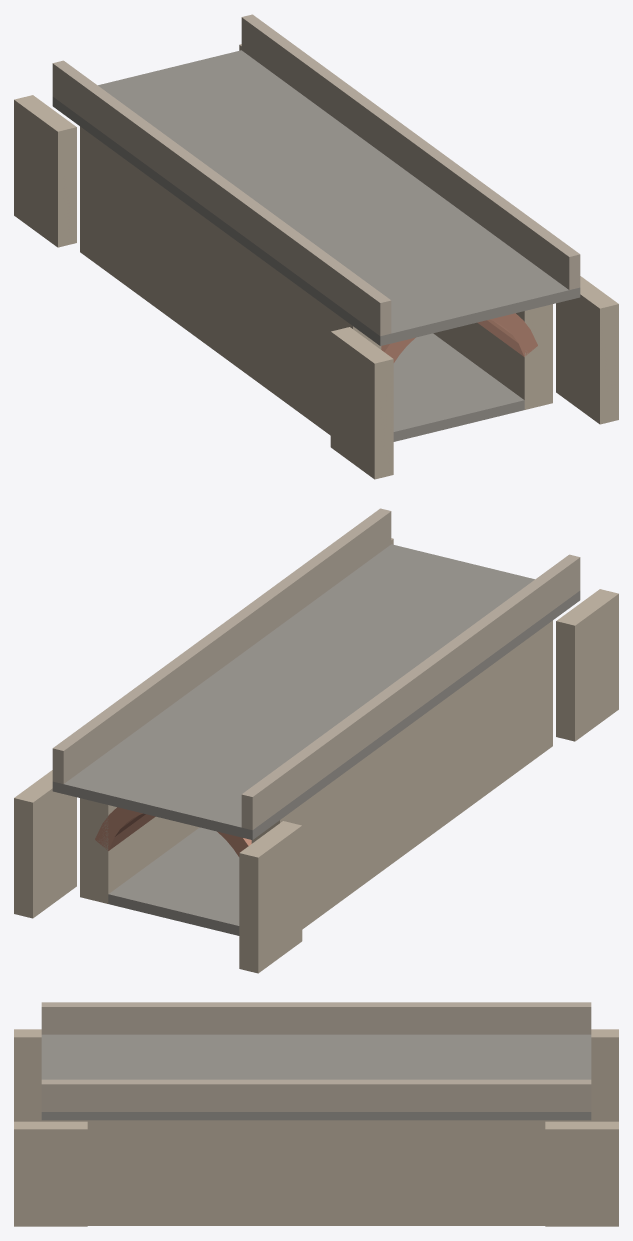
File: cp_willowdell_arch.glb
The picture shows the model from 3 angles, top to bottom: view 1: azimuth 30°, elevation 25°; view 2: azimuth 150°, elevation 25°; view 3: azimuth 270°, elevation 25°; orthographic projection. The views are drawn at different scales.
Parts seen in each view (by area): view 1: WillowdellArch; view 2: WillowdellArch; view 3: WillowdellArch.
Part boxes in pixels (bbox=[...]): WillowdellArch: bbox=[14, 14, 618, 479]; WillowdellArch: bbox=[14, 508, 618, 973]; WillowdellArch: bbox=[14, 1002, 618, 1226].
Bounding box in the file's own units: 7.72 × 5.1 × 19.74.
